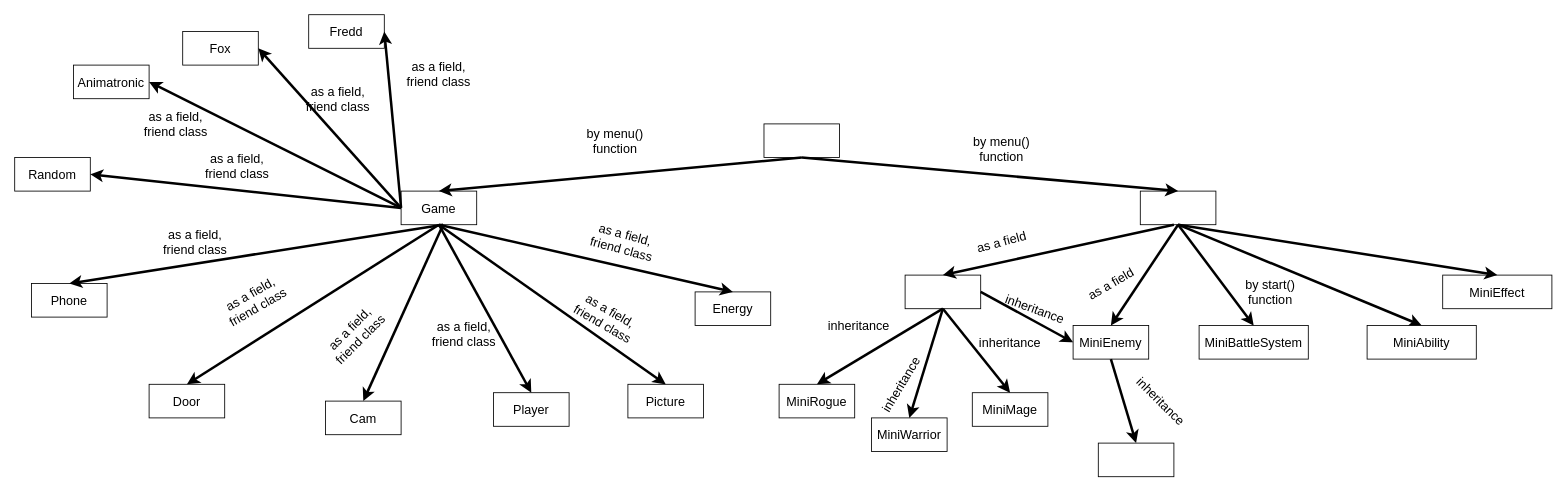
Image size: 1567x491. Some labels were removed from this diagram. Each missing label, with the centre of its shape:
"Menu" belongs at point 801,140.
"MiniGame" belongs at point 1177,207.
"MiniGoblin" belongs at point 1135,459.
"MiniPlayer" belongs at point 942,291.
